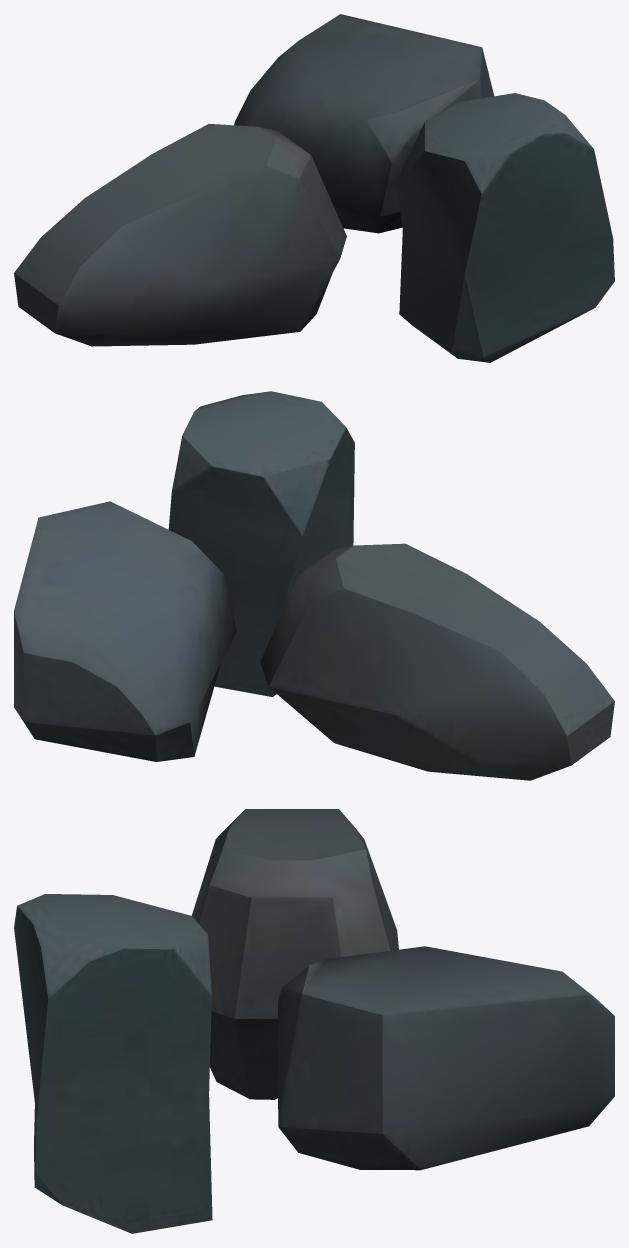
File: OBJ_SmallRock_06.obj
3 views of the same model, one above another, from view 1: azimuth 30°, elevation 25°; view 2: azimuth 150°, elevation 25°; view 3: azimuth 270°, elevation 25° (orthographic). The views are drawn at different scales.
Parts seen in each view (by area): view 1: OBJ_SmallRock_06; view 2: OBJ_SmallRock_06; view 3: OBJ_SmallRock_06.
Part boxes in pixels (left/top/right/bottom): OBJ_SmallRock_06: left=14, top=14, right=614, bottom=362; OBJ_SmallRock_06: left=14, top=391, right=614, bottom=780; OBJ_SmallRock_06: left=14, top=809, right=614, bottom=1233.
Bounding box in the file's own units: 0.5421 × 0.2396 × 0.4519.
1 material, 1 textured.
